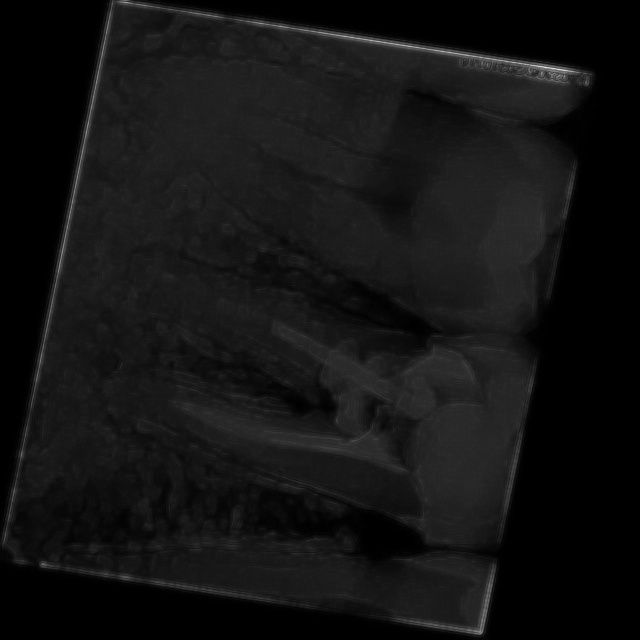Class 2- incomplete endodontic treatment: (71, 242, 539, 554)
